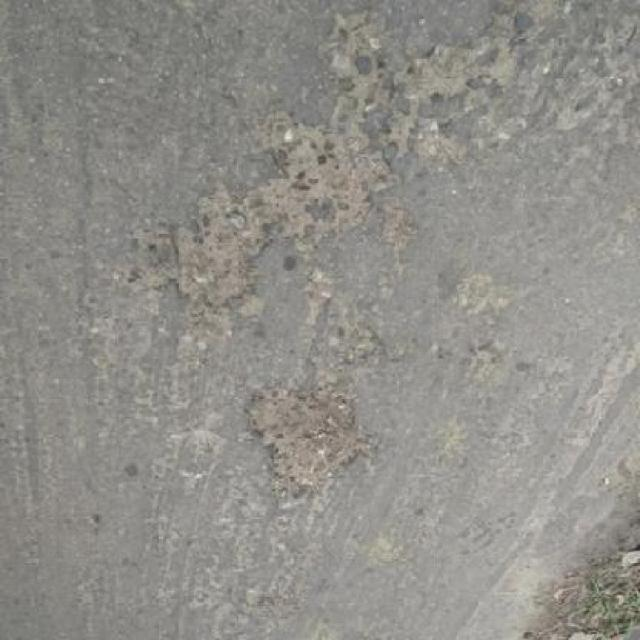pothole: (268, 121, 401, 253), (245, 379, 386, 501), (167, 188, 271, 314)
